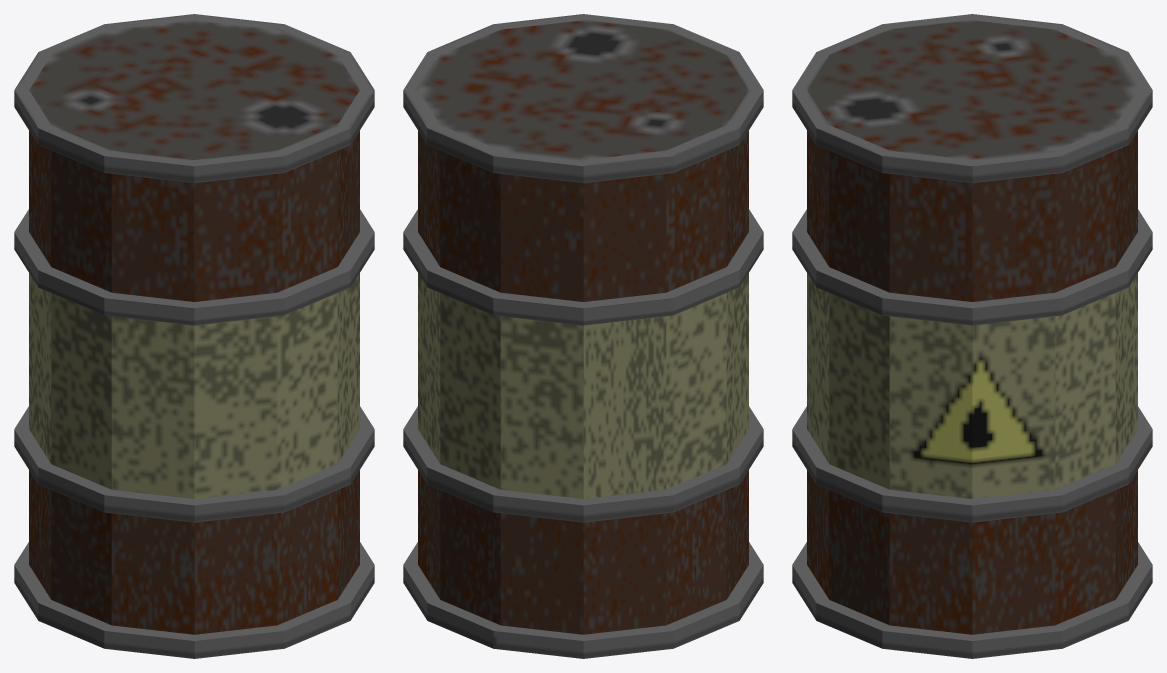
File: OilBarrel.fbx
3 views of the same model, side by side, from view 1: azimuth 30°, elevation 25°; view 2: azimuth 150°, elevation 25°; view 3: azimuth 270°, elevation 25° (orthographic).
Visible parts, largest first — view 1: Cylinder; view 2: Cylinder; view 3: Cylinder.
Part boxes in pixels (<box>): Cylinder: <box>14,14,374,658</box>; Cylinder: <box>403,14,763,658</box>; Cylinder: <box>792,14,1152,658</box>.
Bounding box in the file's own units: 228 × 343 × 228.
Materials: 1 (1 with a texture image).
